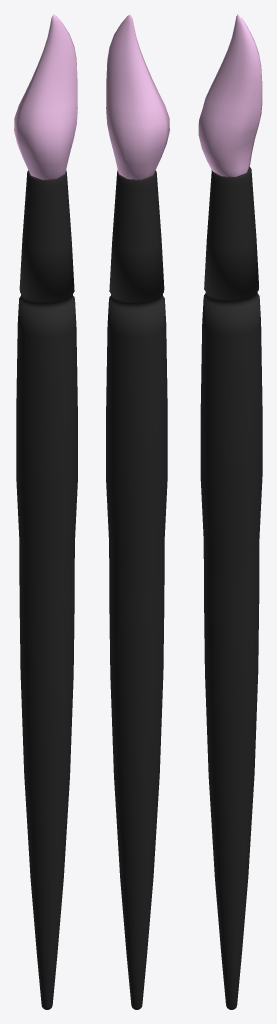
File: brush base.fbx
3 views of the same model, side by side, from view 1: azimuth 30°, elevation 25°; view 2: azimuth 150°, elevation 25°; view 3: azimuth 330°, elevation 25° (orthographic).
Parts seen in each view (by area): view 1: brush base; view 2: brush base; view 3: brush base.
Part boxes in pixels (box(x1,y1,x2,y2)): brush base: box(14, 14, 77, 1009); brush base: box(106, 14, 169, 1009); brush base: box(198, 14, 262, 1009).
Bounding box in the file's own units: 0.087 × 1.39 × 0.0804.
